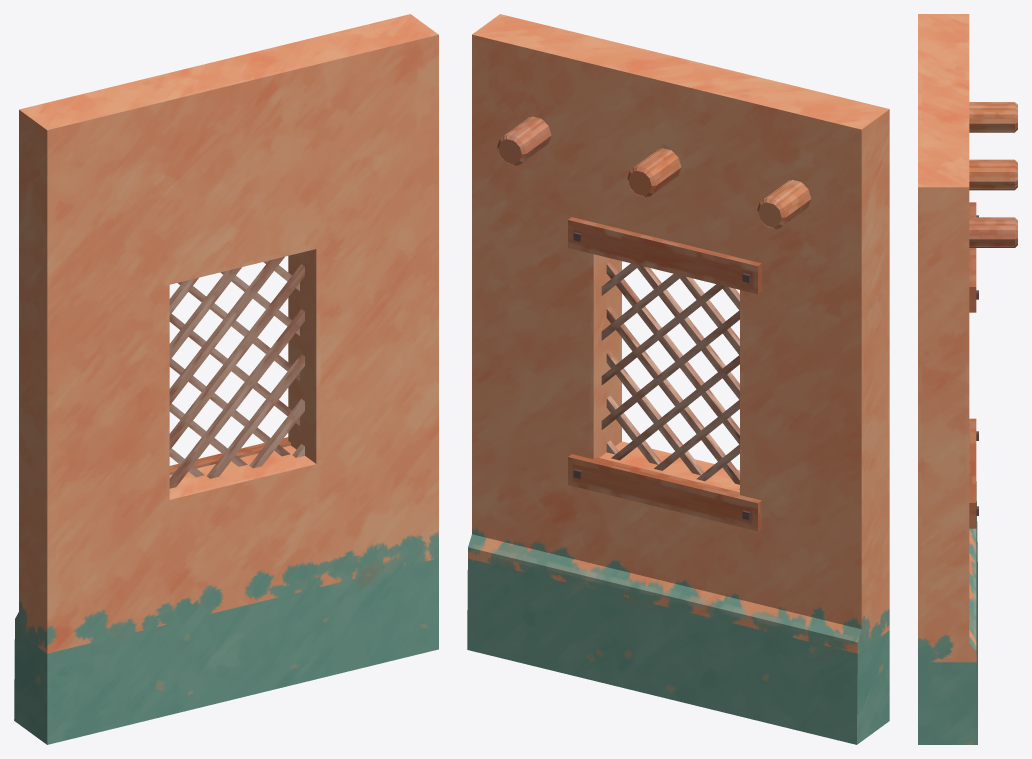
The model's file is wall_window.bundle.fbx.
3 renders of one model, left to right at view 1: azimuth 30°, elevation 25°; view 2: azimuth 150°, elevation 25°; view 3: azimuth 270°, elevation 25°, orthographic. The views are drawn at different scales.
Parts seen in each view (by area): view 1: wall_window, wall_window_s01, wall_window_s02, wall_window_s03, wall_window_s05, wall_window_s06, wall_window_s10, wall_window_s00, wall_window_s09, wall_window_s08, wall_window_s07, wall_window_s04; view 2: wall_window, wall_window_s01, wall_window_s05, wall_window_s10, wall_window_s04, wall_window_s03, wall_window_s06, wall_window_low, wall_window_s02, wall_window_s08, wall_window_s00, wall_window_s09 (+1 smaller); view 3: wall_window, wall_window_s04, wall_window_s08, wall_window_s01, wall_window_s00, wall_window_s09, wall_window_low, wall_window_s06, wall_window_s10, wall_window_s05.
Part boxes in pixels (bbox=[...]): wall_window: bbox=[14, 14, 438, 744]; wall_window_s01: bbox=[249, 437, 438, 676]; wall_window_s02: bbox=[19, 229, 132, 514]; wall_window_s03: bbox=[19, 363, 332, 588]; wall_window_s05: bbox=[19, 554, 325, 713]; wall_window_s06: bbox=[228, 31, 404, 207]; wall_window_s10: bbox=[263, 194, 438, 384]; wall_window_s00: bbox=[107, 59, 264, 196]; wall_window_s09: bbox=[19, 94, 114, 238]; wall_window_s08: bbox=[339, 14, 438, 196]; wall_window_s07: bbox=[112, 140, 284, 274]; wall_window_s04: bbox=[337, 282, 438, 475]; wall_window: bbox=[467, 14, 889, 744]; wall_window_s01: bbox=[467, 431, 687, 672]; wall_window_s05: bbox=[561, 532, 889, 714]; wall_window_s10: bbox=[472, 189, 632, 392]; wall_window_s04: bbox=[472, 230, 581, 488]; wall_window_s03: bbox=[580, 382, 889, 582]; wall_window_s06: bbox=[478, 39, 672, 198]; wall_window_low: bbox=[499, 117, 804, 531]; wall_window_s02: bbox=[780, 219, 889, 506]; wall_window_s08: bbox=[472, 14, 561, 189]; wall_window_s00: bbox=[657, 56, 826, 187]; wall_window_s09: bbox=[761, 94, 889, 244]; wall_window: bbox=[918, 14, 1017, 744]; wall_window_s04: bbox=[918, 366, 969, 600]; wall_window_s08: bbox=[918, 154, 969, 333]; wall_window_s01: bbox=[918, 564, 977, 733]; wall_window_s00: bbox=[918, 41, 969, 107]; wall_window_s09: bbox=[918, 14, 969, 52]; wall_window_low: bbox=[969, 103, 1017, 528]; wall_window_s06: bbox=[918, 105, 969, 154]; wall_window_s10: bbox=[918, 331, 969, 369]; wall_window_s05: bbox=[969, 528, 976, 576].
Size of the model in its own units: 8 by 12 by 1.95.
Materials: 1 (1 with a texture image).
